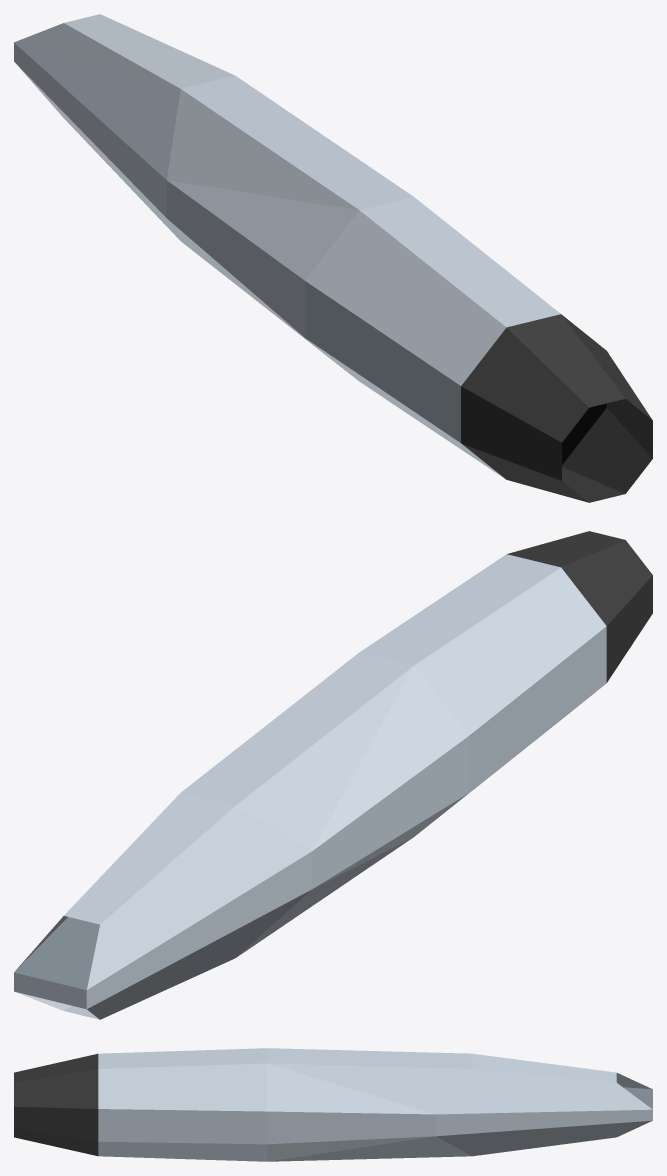
File: Engine.FBX
3 views of the same model, one above another, from view 1: azimuth 30°, elevation 25°; view 2: azimuth 150°, elevation 25°; view 3: azimuth 270°, elevation 25° (orthographic). The views are drawn at different scales.
Parts seen in each view (by area): view 1: VIFS002, VIFS003, VIFS001; view 2: VIFS002, VIFS003, VIFS004; view 3: VIFS002, VIFS003, VIFS004.
Part boxes in pixels (x1,y1,x2,y2): VIFS002: (14, 14, 560, 478); VIFS003: (461, 314, 652, 502); VIFS001: (562, 403, 606, 464); VIFS002: (14, 554, 606, 1019); VIFS003: (507, 531, 652, 682); VIFS004: (14, 917, 99, 990); VIFS002: (98, 1048, 652, 1161); VIFS003: (14, 1054, 98, 1155); VIFS004: (623, 1087, 652, 1109).
Bounding box in the file's own units: 0.27 × 0.27 × 1.59.
